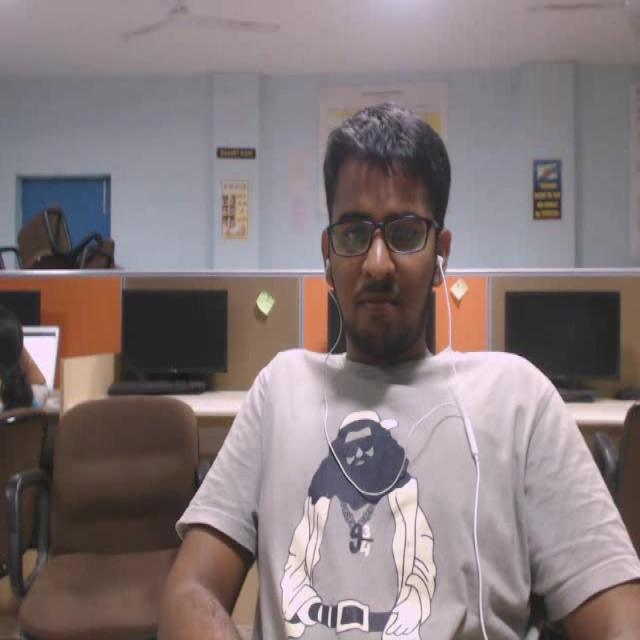Engaged: (291, 72, 473, 402)
